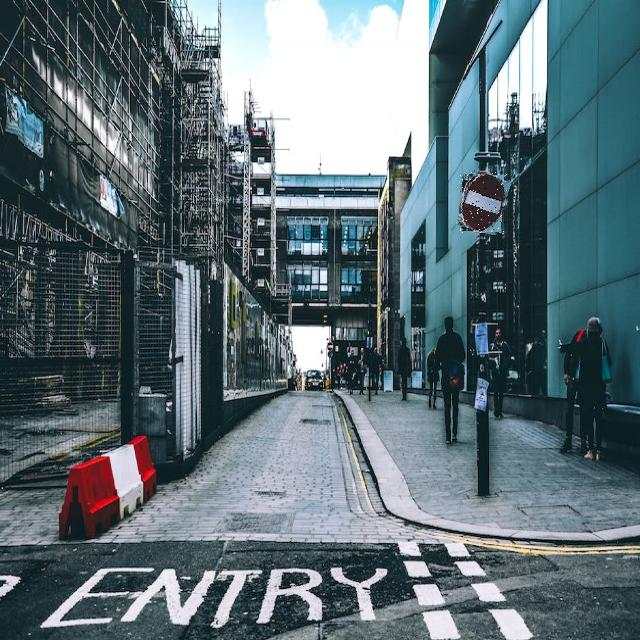no entry: (459, 172, 508, 233)
